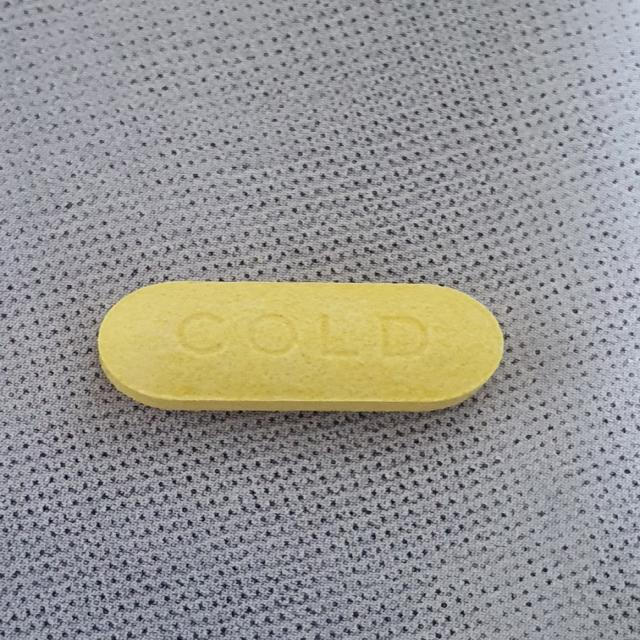pill: (64, 254, 526, 460)
